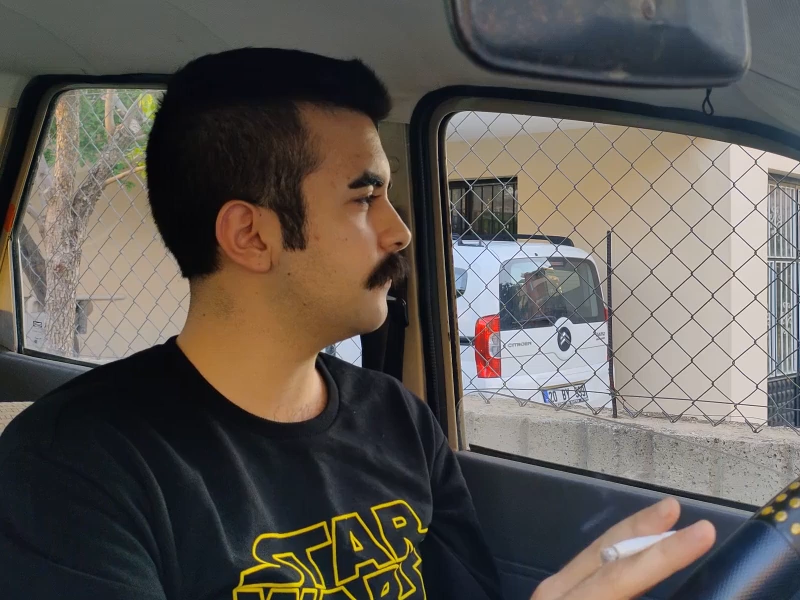sigara: (596, 528, 677, 567)
